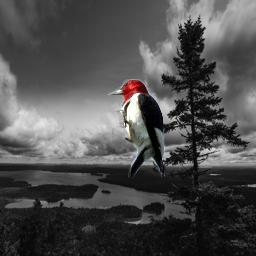Woodpecker: (107, 79, 166, 178)
